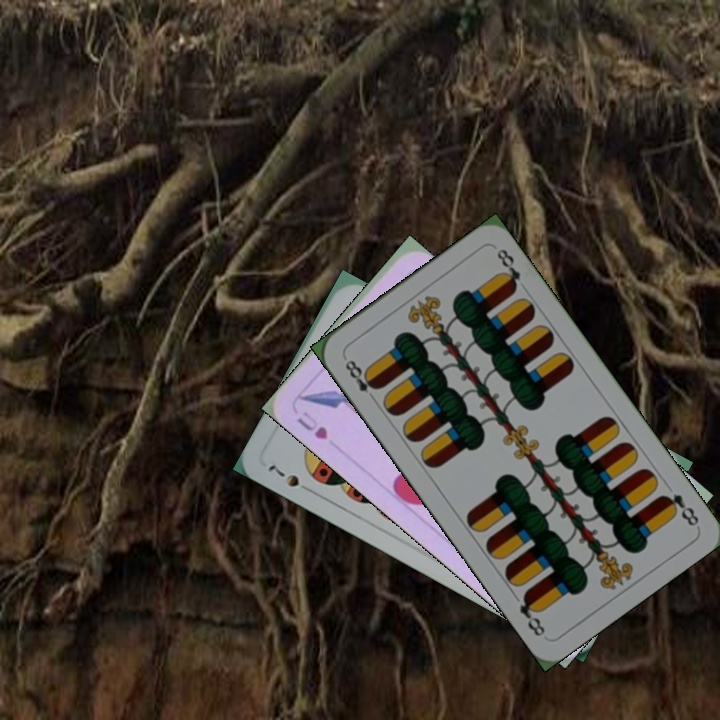E8: (340, 353, 382, 404), (657, 490, 702, 529)
HU: (292, 407, 330, 442)
S7: (263, 461, 316, 496)
